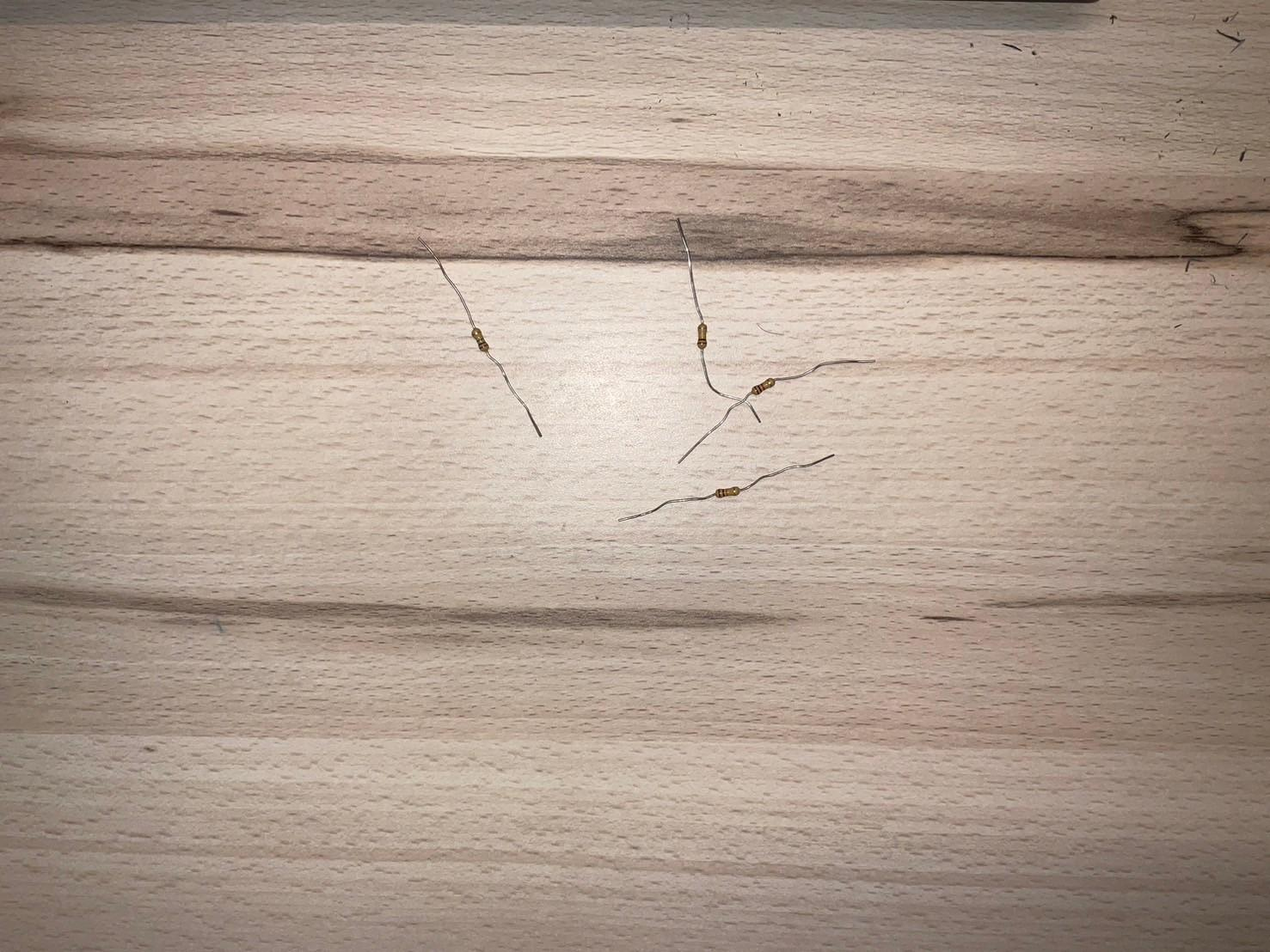resistor: (750, 376, 777, 396), (471, 327, 490, 353), (714, 485, 741, 497), (697, 323, 706, 350)
